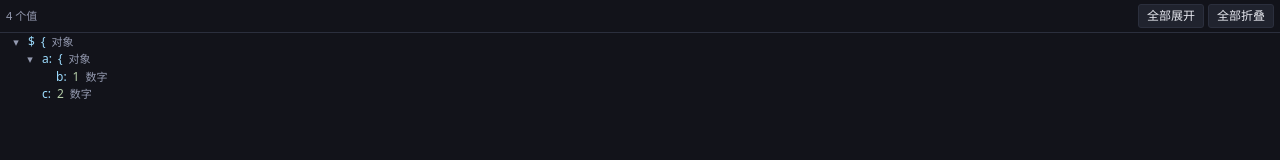
Test: JsonTree › 全部折叠后除根以外全部收起，全部展开后恢复
The width and height of the screenshot is (1280, 160).
Click the button "全部折叠" at [1241, 16], box [1208,4,1274,28]
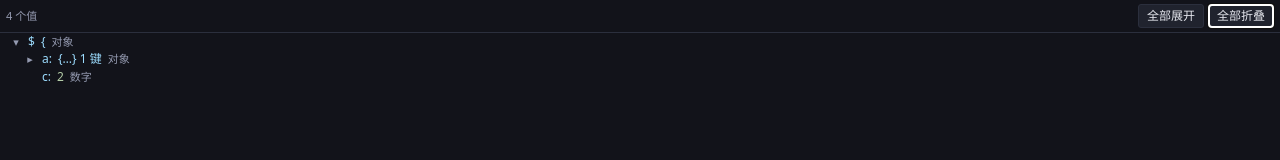
Expected: the number of list items is 3, [10,33,73,50]; [24,50,130,67]; [42,68,92,85]
Click the button "全部展开" at [1171, 16], box [1138,4,1204,28]
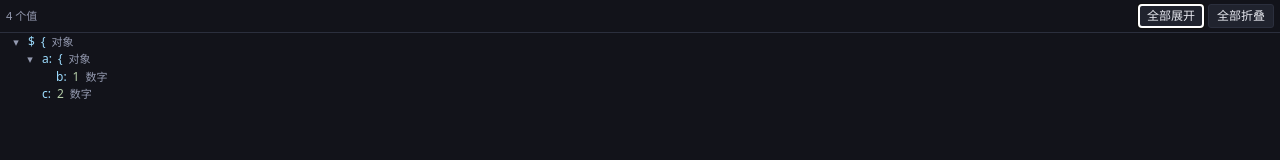
Expected: the number of list items is 4, [10,33,73,50]; [24,50,90,67]; [56,68,108,85]; [42,85,92,102]
